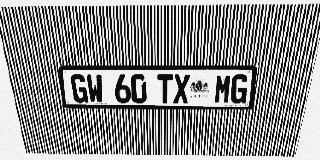0: (130, 74, 147, 103)
6: (114, 74, 131, 103)
G: (230, 74, 249, 104), (70, 74, 88, 103)
M: (214, 74, 232, 104)
T: (157, 74, 173, 103)
W: (86, 74, 104, 103)
X: (173, 74, 190, 103)
